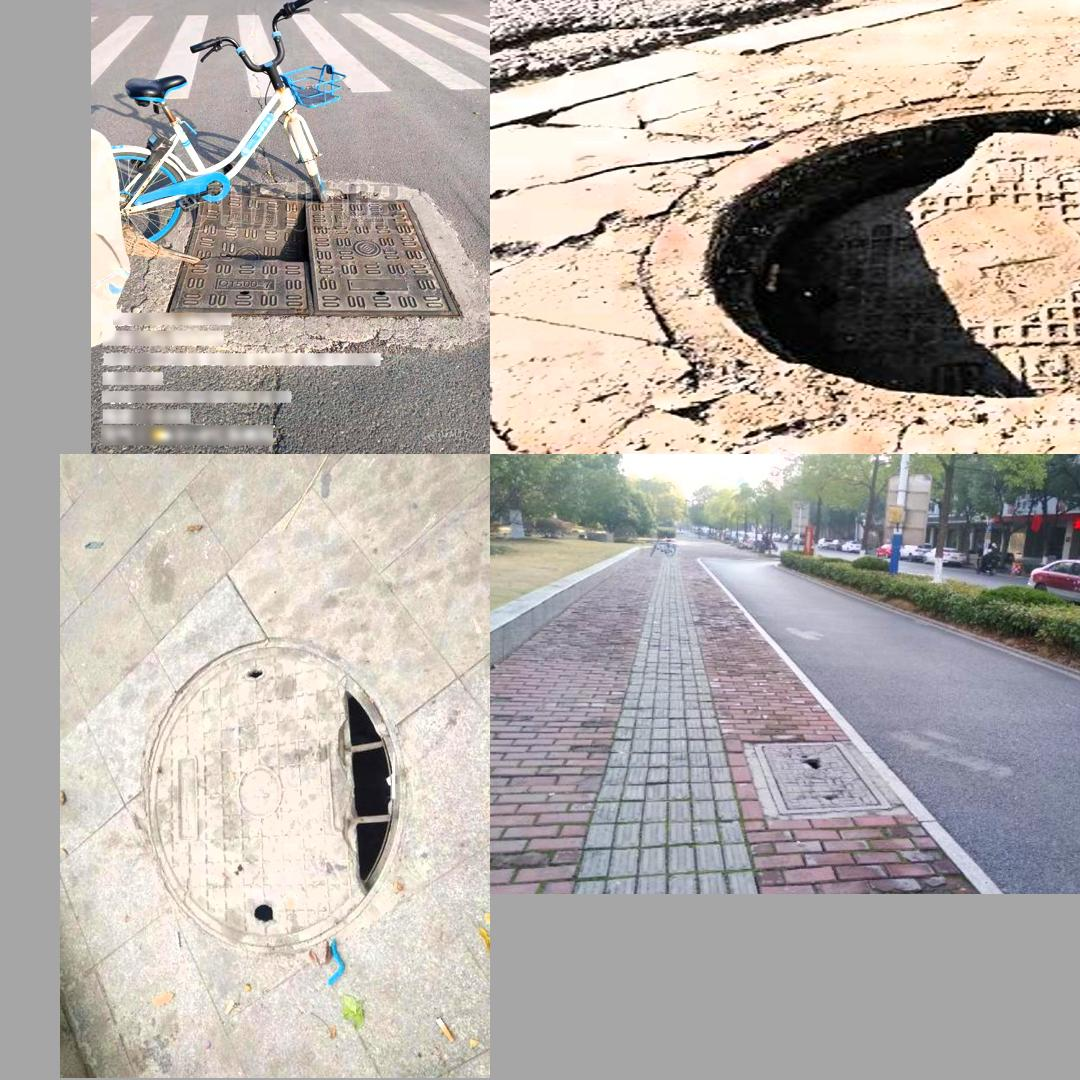broke: (562, 67, 1080, 424), (133, 621, 417, 966), (162, 188, 463, 318), (751, 740, 892, 814)
